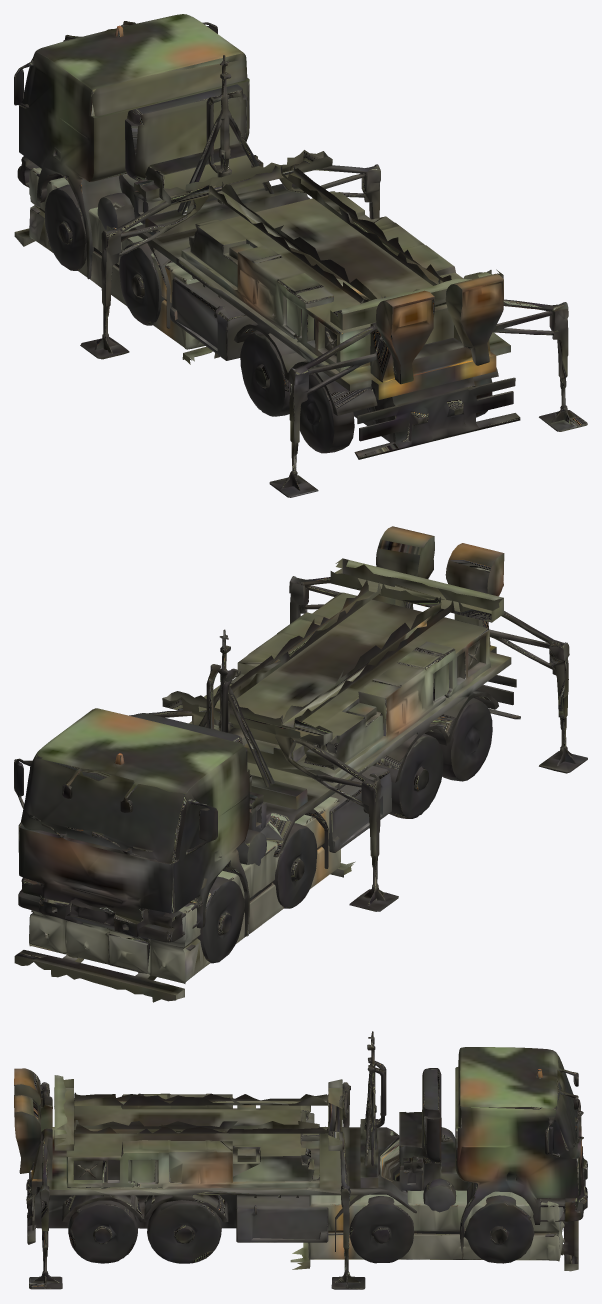
Rendered from sampt_lo.glb.
3 renders of one model, top to bottom at view 1: azimuth 30°, elevation 25°; view 2: azimuth 150°, elevation 25°; view 3: azimuth 270°, elevation 25°, orthographic. The views are drawn at different scales.
Parts seen in each view (by area): view 1: body|material_0, cradle|material_0; view 2: body|material_0, cradle|material_0; view 3: body|material_0, cradle|material_0.
Part boxes in pixels (x1=…): body|material_0: x1=14, y1=14, x2=587, y2=497; cradle|material_0: x1=14, y1=167, x2=219, y2=364; body|material_0: x1=14, y1=526, x2=587, y2=963; cradle|material_0: x1=14, y1=797, x2=355, y2=1002; body|material_0: x1=14, y1=1031, x2=587, y2=1289; cradle|material_0: x1=290, y1=1190, x2=578, y2=1271.
Size of the model in its own units: 5.06 by 4.25 by 10.46.
Materials: 2 (2 with a texture image).
